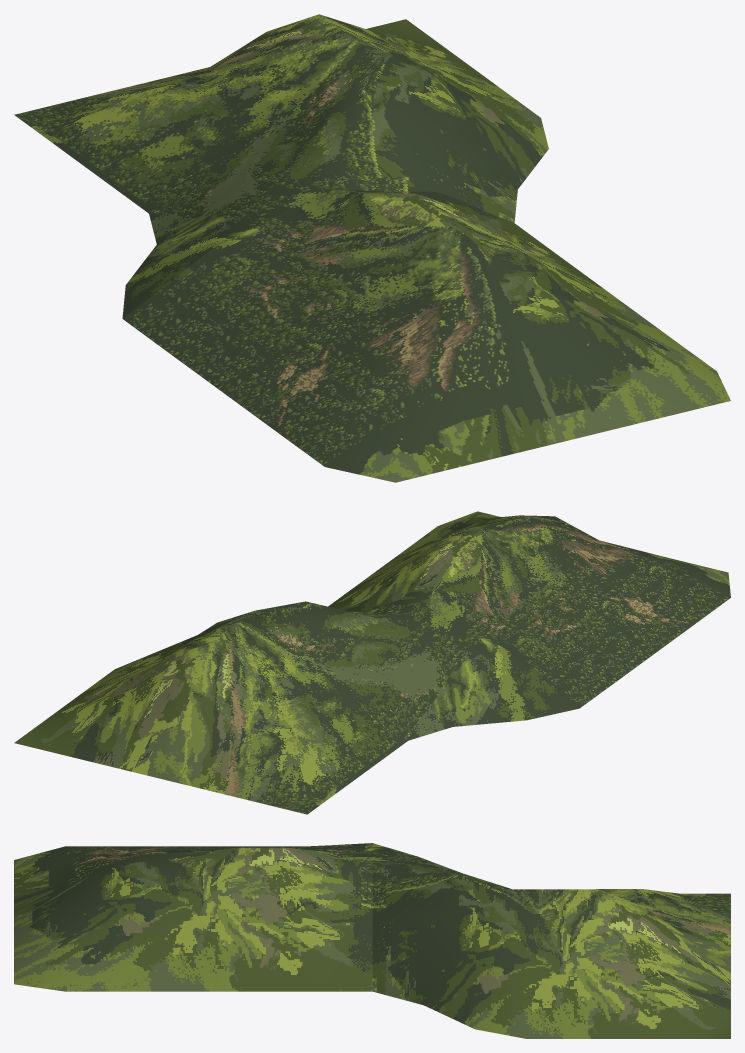
File: BgMD_Mid_Plain_C.FBX
The picture shows the model from 3 angles, top to bottom: view 1: azimuth 30°, elevation 25°; view 2: azimuth 150°, elevation 25°; view 3: azimuth 270°, elevation 25°; orthographic projection. The views are drawn at different scales.
Visible parts, largest first — view 1: BgMD_Mid_Plain_C; view 2: BgMD_Mid_Plain_C; view 3: BgMD_Mid_Plain_C.
Boxes of the visible parts, <box> form: BgMD_Mid_Plain_C: <box>14,14,730,482</box>; BgMD_Mid_Plain_C: <box>14,511,730,814</box>; BgMD_Mid_Plain_C: <box>14,843,730,1038</box>.
Size of the model in its own units: 3403 by 700 by 5355.
